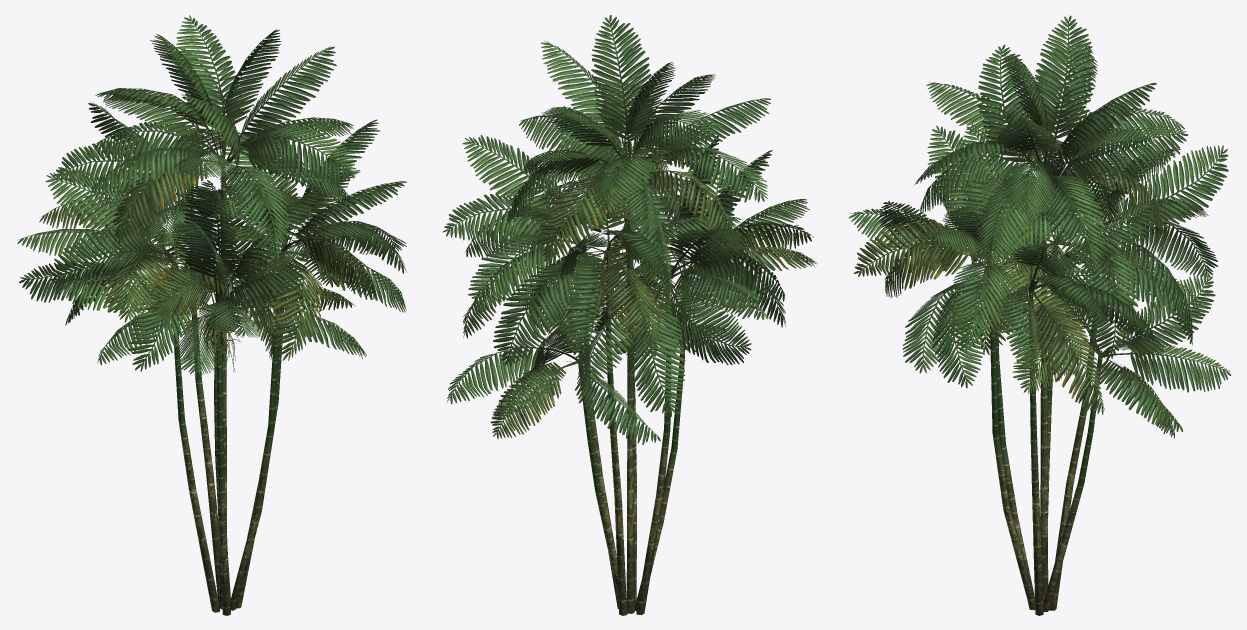
Rendered from MK4_MacArthurPalm.DAE.
3 renders of one model, left to right at view 1: azimuth 30°, elevation 25°; view 2: azimuth 150°, elevation 25°; view 3: azimuth 270°, elevation 25°, orthographic.
Visible parts, largest first — view 1: MK4_MacArthurPalm; view 2: MK4_MacArthurPalm; view 3: MK4_MacArthurPalm.
Part boxes in pixels (x1,y1,x2,y2): MK4_MacArthurPalm: [17, 15, 406, 615]; MK4_MacArthurPalm: [443, 15, 817, 615]; MK4_MacArthurPalm: [848, 15, 1231, 615].
Bounding box in the file's own units: 13.9 × 13.76 × 22.64.
